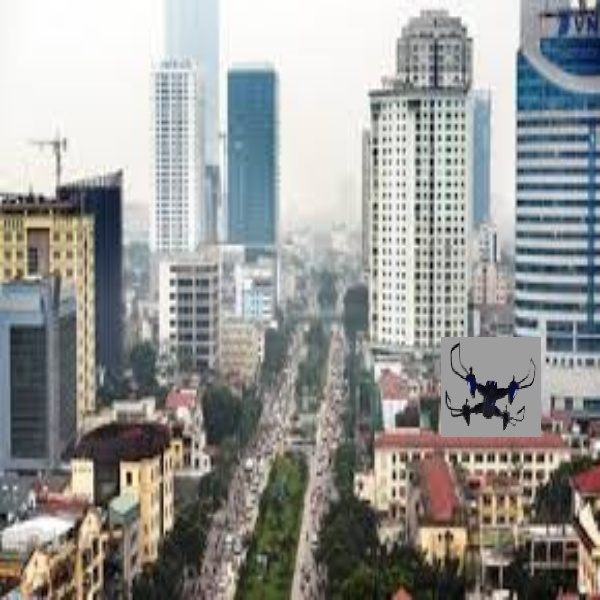drone: (445, 339, 538, 436)
